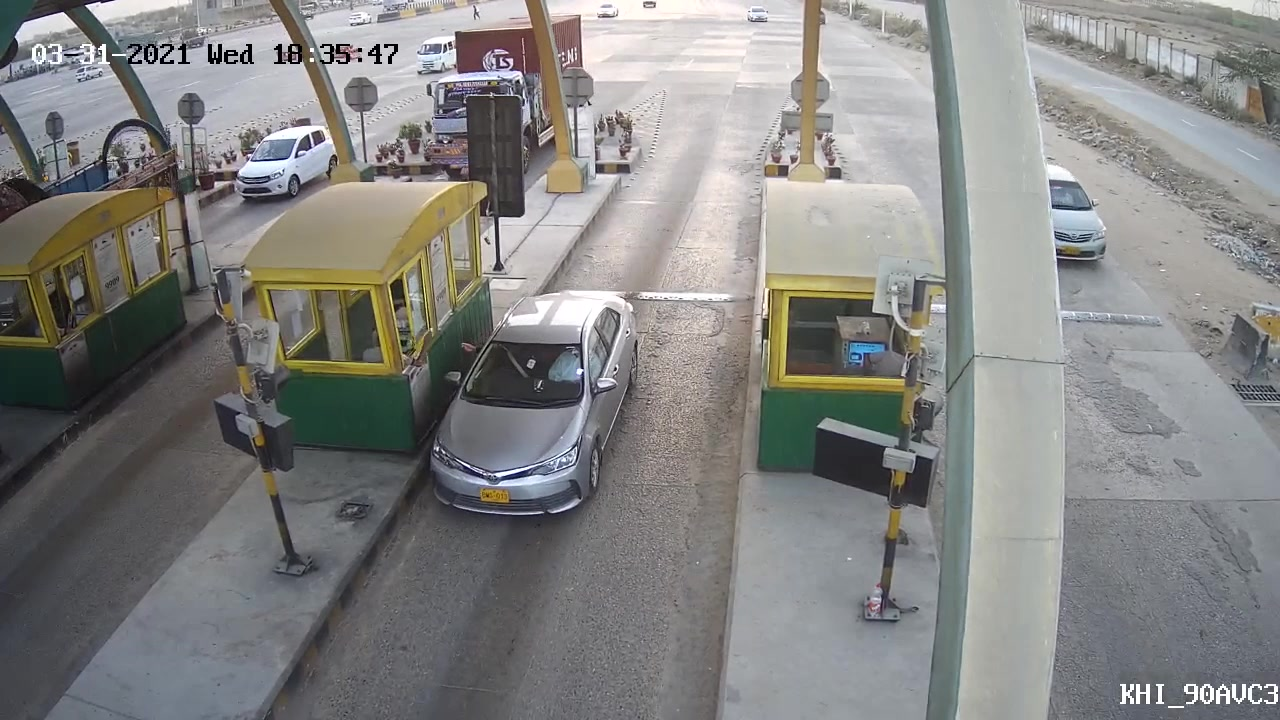F1: (412, 284, 652, 523)
